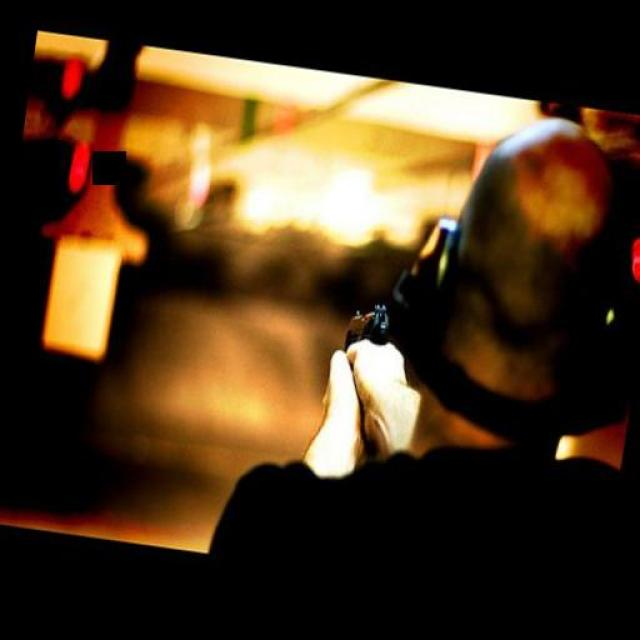gun: (327, 296, 395, 448)
